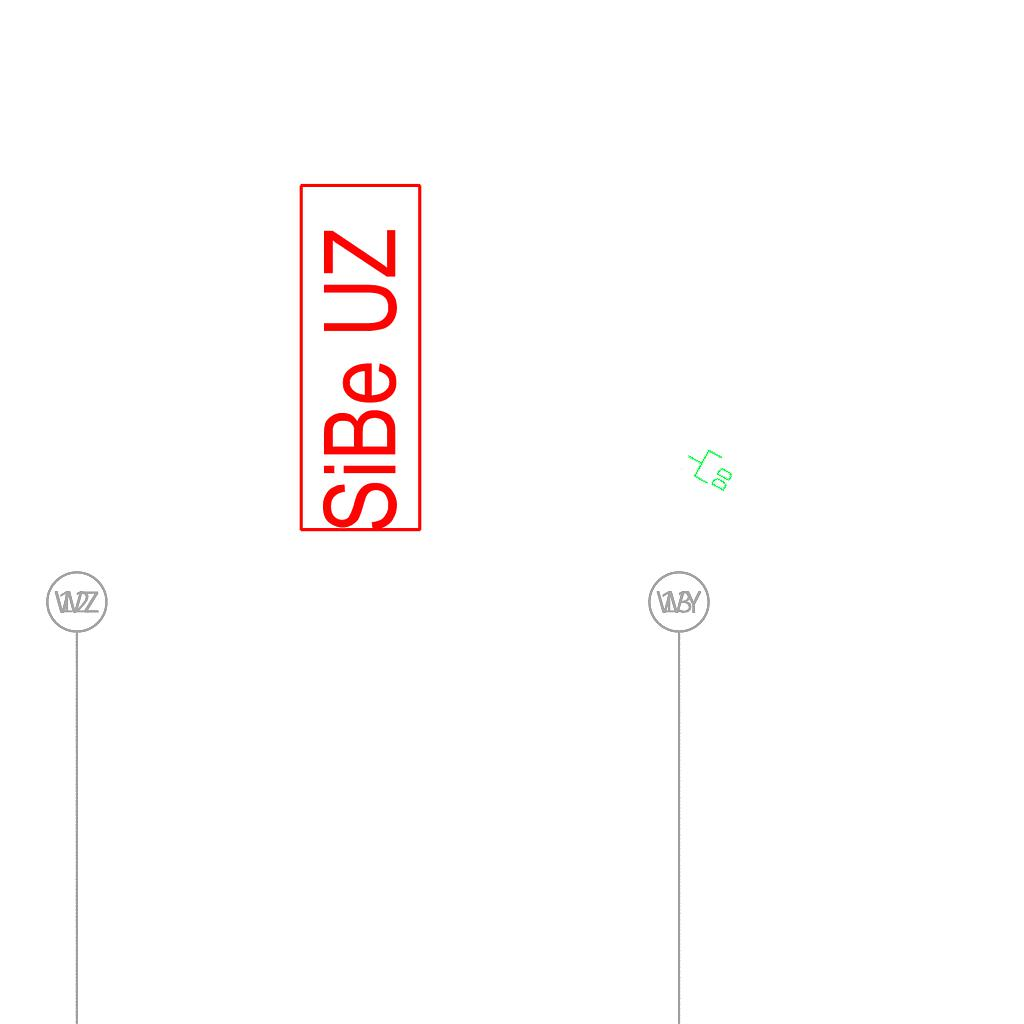Datenanschluss_zweifach: (678, 440, 741, 496)
Zentrale_Sicherheitsbeleuchtung: (296, 178, 426, 535)
